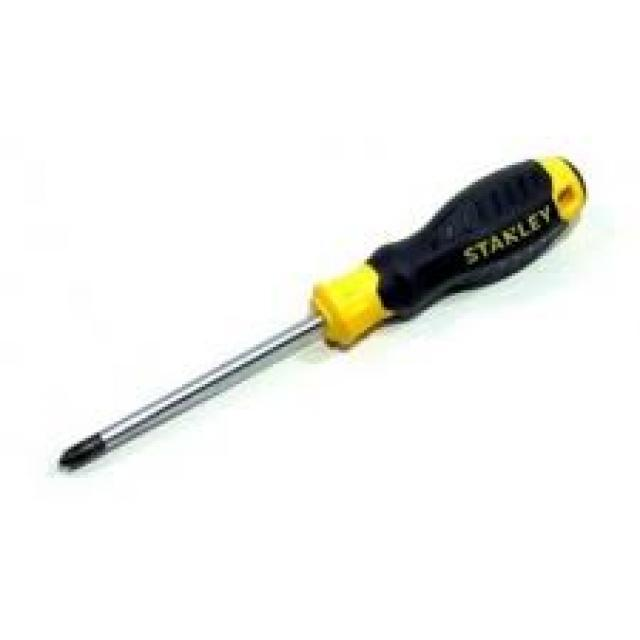screwdriver: (55, 155, 590, 471)
